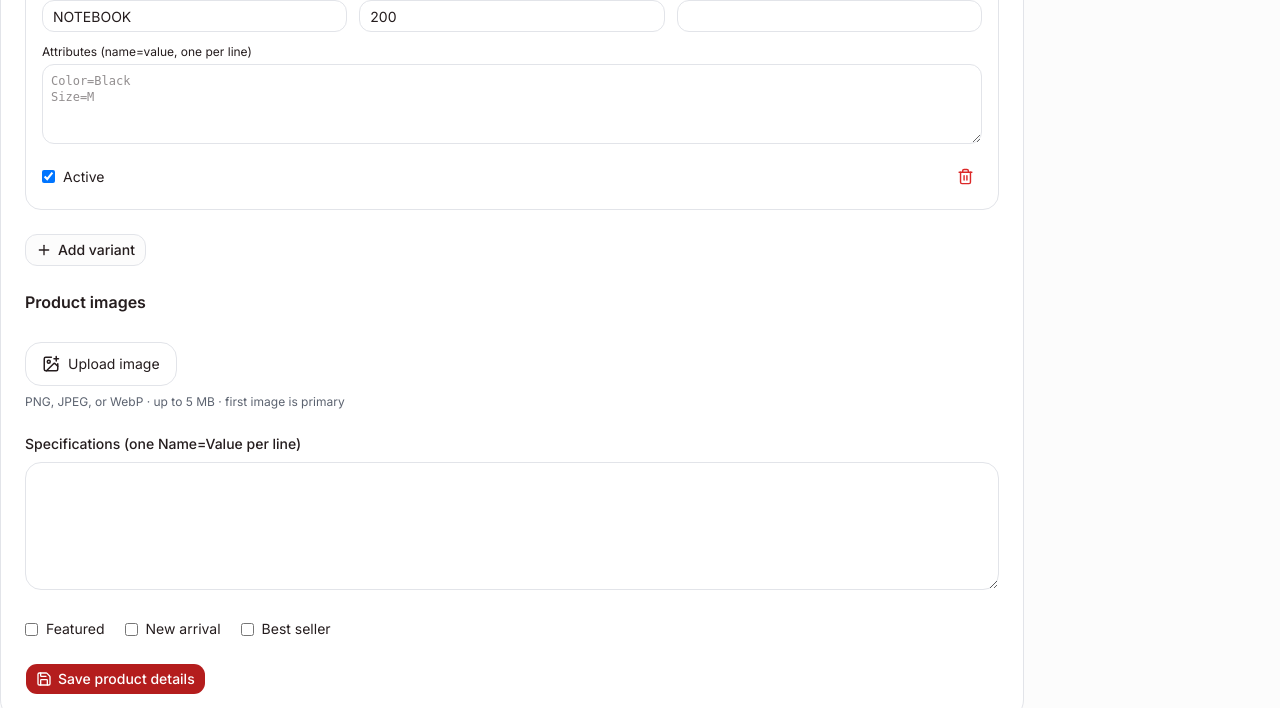
Scenario: Product details editing › rejects invalid specification lines before sending a request
(page scrolled)
Type "Size without a value" into the text box labelled "Specifications (one Name=Value per line)" at x=512, y=526, box [25,462,999,590]
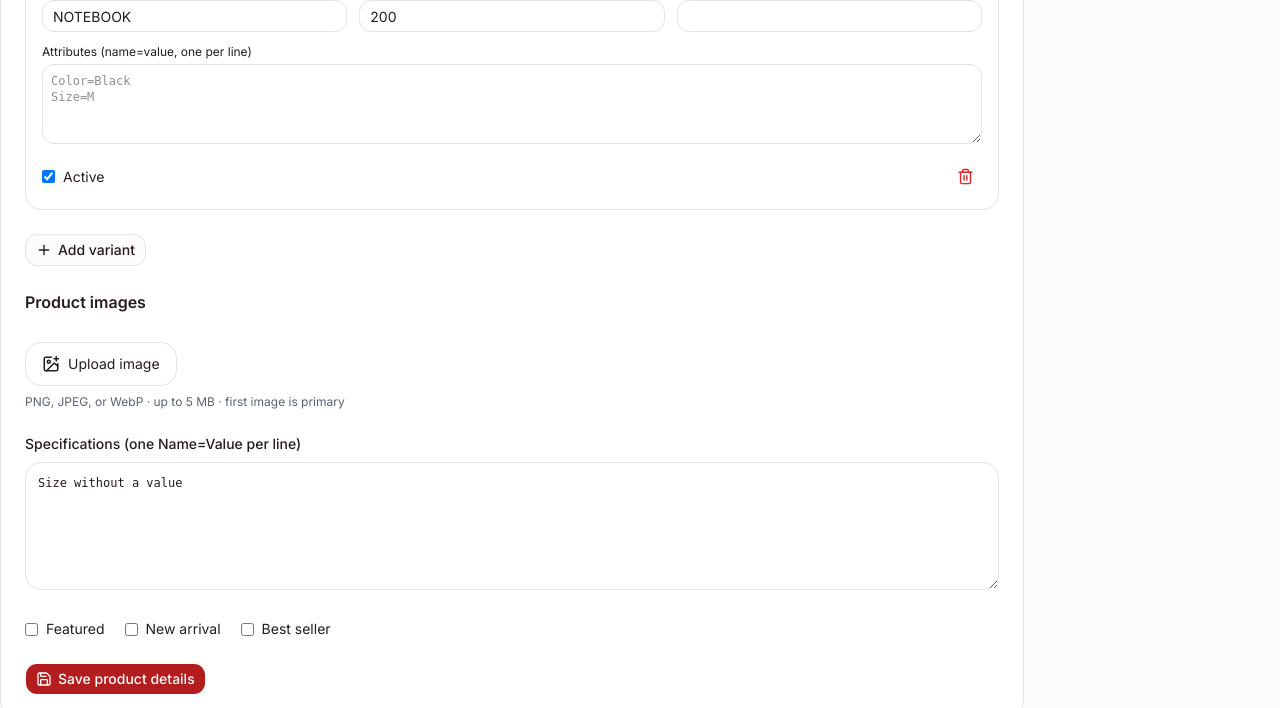
Click the button "Save product details" at x=115, y=679, box [25,663,206,695]
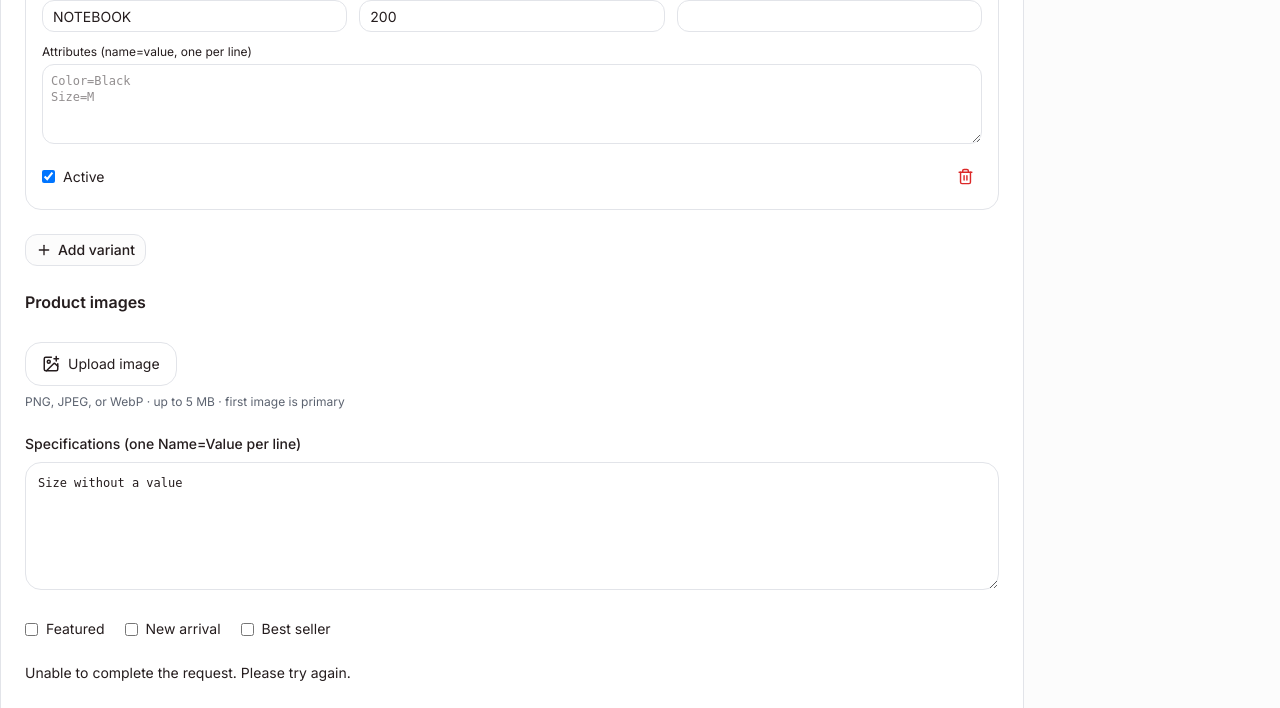
Check: the text "Unable to complete the request. Please try again." is shown, box [25,664,351,681]
